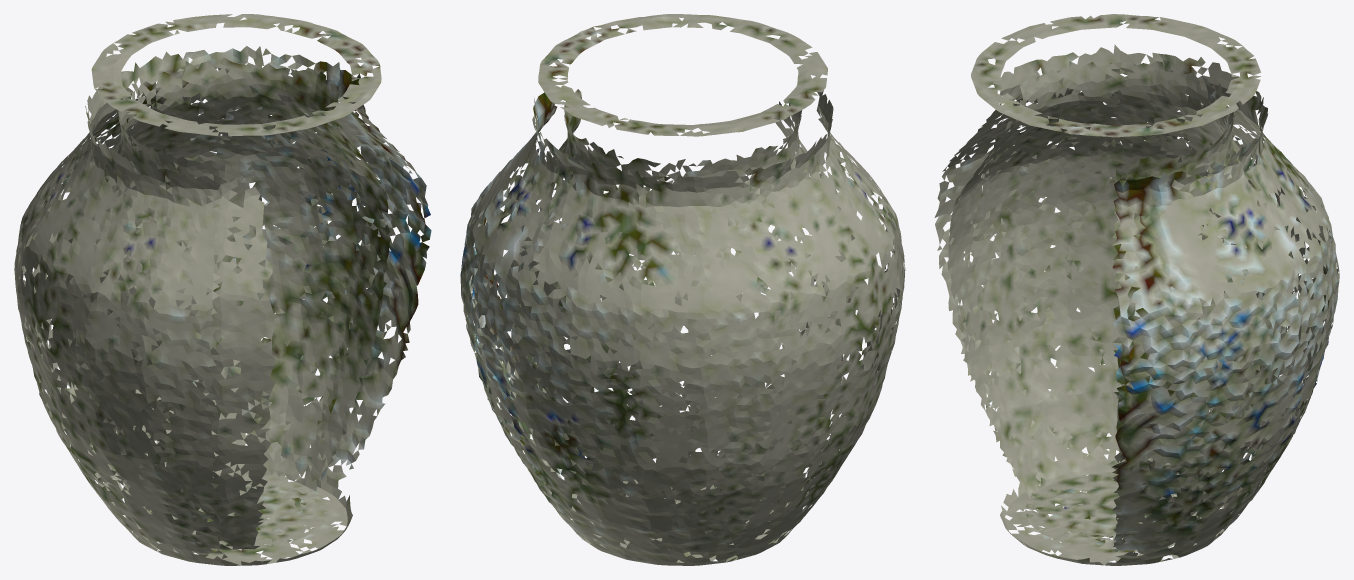
The model's file is vase2_final400.obj.
3 renders of one model, left to right at view 1: azimuth 30°, elevation 25°; view 2: azimuth 150°, elevation 25°; view 3: azimuth 270°, elevation 25°, orthographic.
Bounding box in the file's own units: 1.56 × 1.7 × 1.41.
